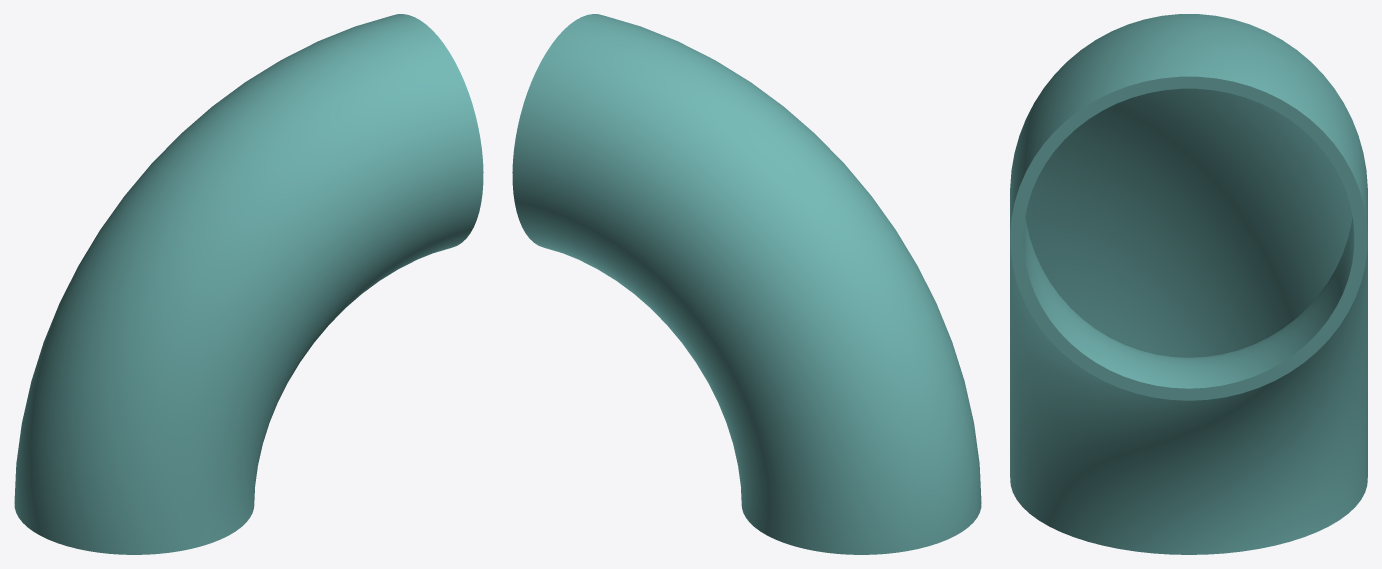
Rendered from step_12.glb.
3 views of the same model, side by side, from view 1: azimuth 30°, elevation 25°; view 2: azimuth 150°, elevation 25°; view 3: azimuth 270°, elevation 25° (orthographic). The views are drawn at different scales.
Visible parts, largest first — view 1: part__8" elbow top left; view 2: part__8" elbow top left; view 3: part__8" elbow top left.
Boxes of the visible parts, x1,y1,x2,y2 form: part__8" elbow top left: (14,14,483,554); part__8" elbow top left: (512,14,981,554); part__8" elbow top left: (1010,14,1367,554).
Size of the model in its own units: 414 by 414 by 219.
